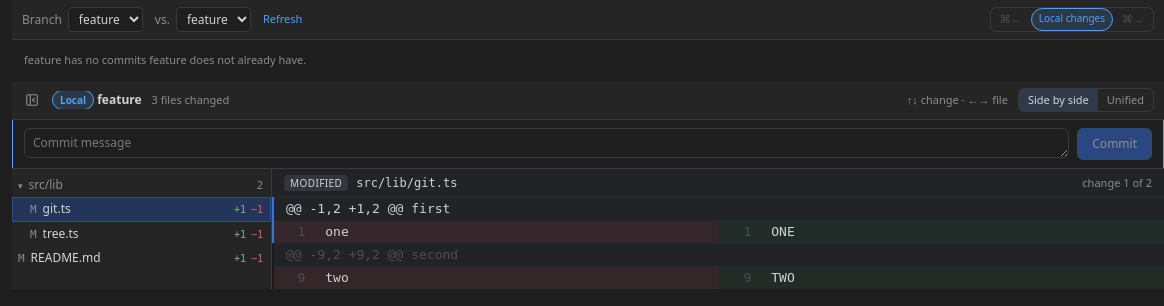
Test case: DiffBrowserView — local changes (the merged tab's default view) › re-reads the diff of the file it is on when Refresh is clicked
The image size is (1164, 306).
Click the button "Refresh". click: (283, 20)
box: [263,11,302,28]
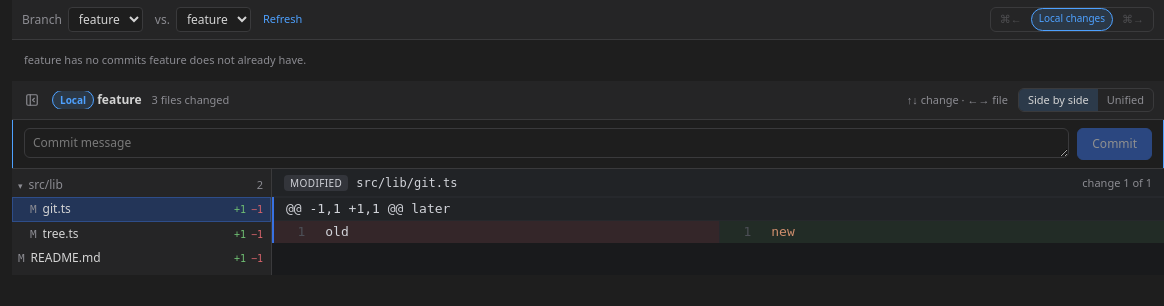
Result: the text "new" is shown at [771,224,795,239]
